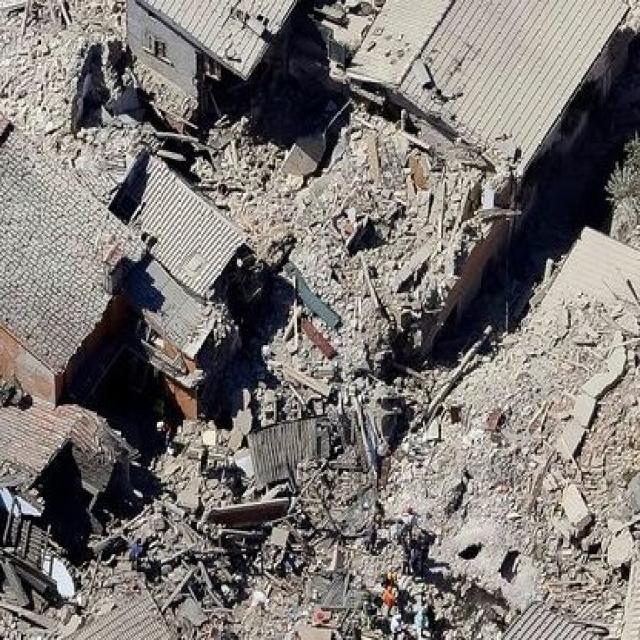collapsed_building: (415, 231, 637, 638), (262, 70, 500, 392), (157, 429, 426, 638), (3, 384, 157, 638)
